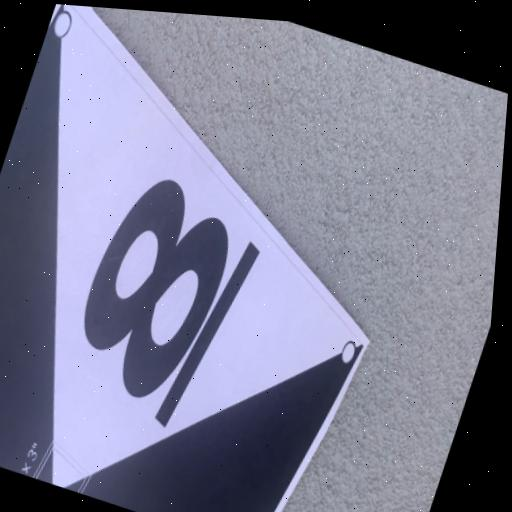target8: (0, 4, 370, 512)
